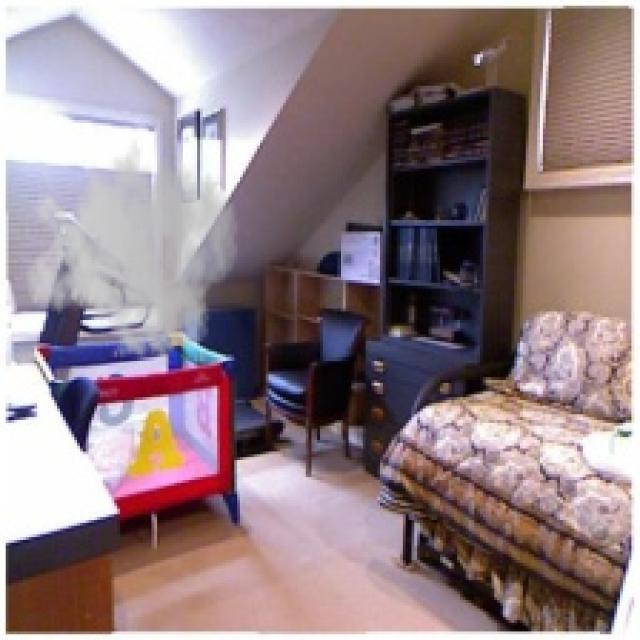smoke: (23, 125, 240, 368)
